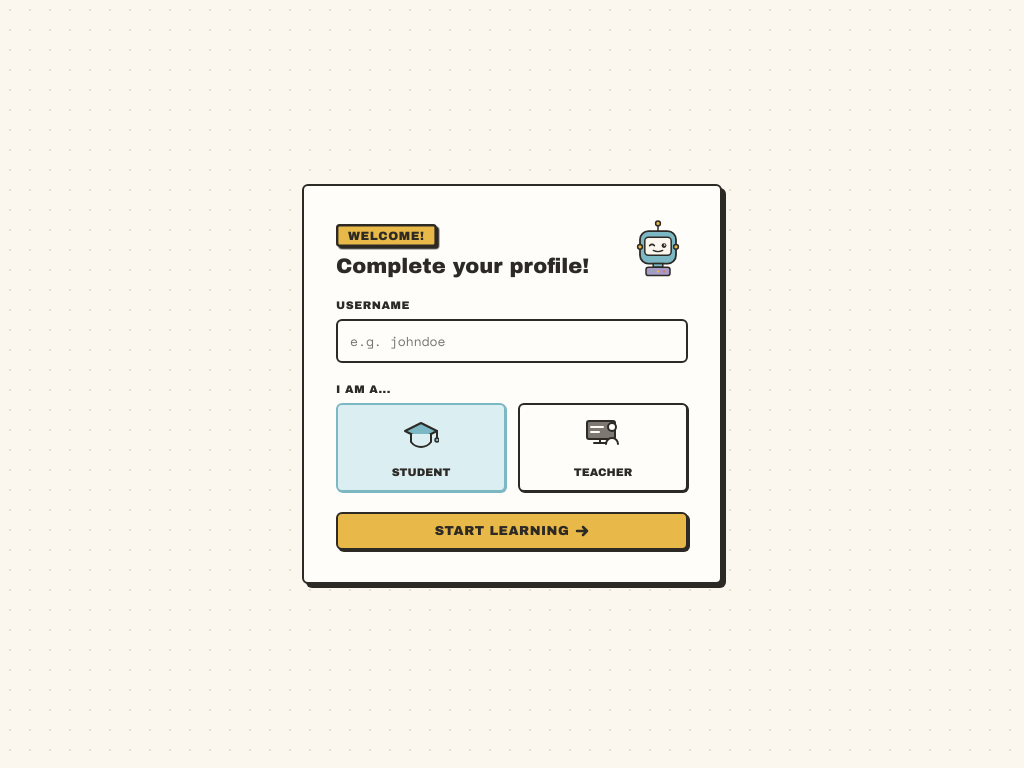
Test: RegisterPage › shows an error when username is empty
Expected: the text "Complete your profile!" is shown, x1=336 y1=254 x2=589 y2=279
What coordinates should you click on to do the following:
click the button "Start Learning"
I would click on:
 (512, 531)
Its box is x1=336 y1=512 x2=688 y2=550.
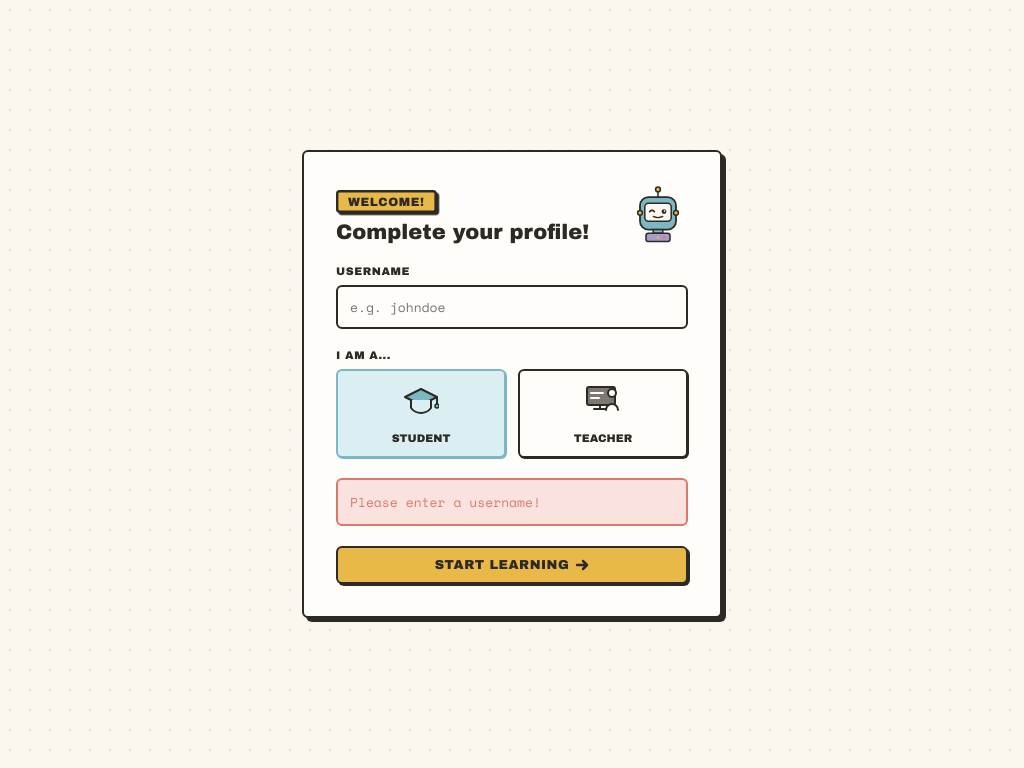
Now the text "Please enter a username!" is shown, box x1=336 y1=478 x2=688 y2=526
